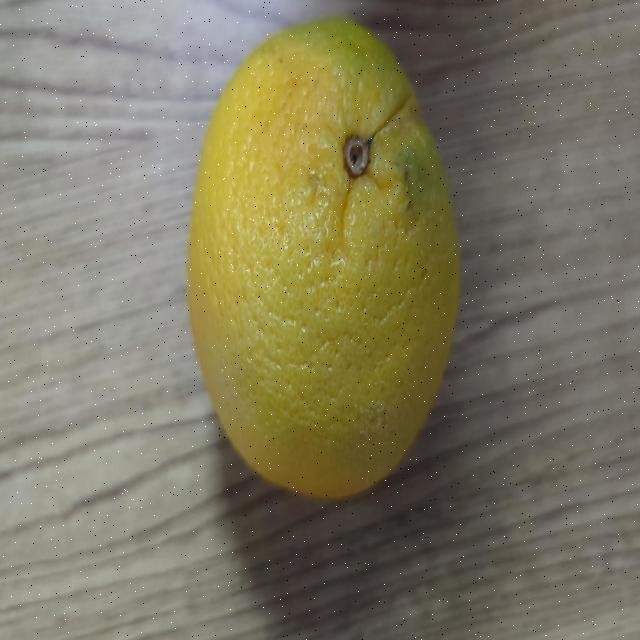Jeruk: (182, 5, 468, 502)
